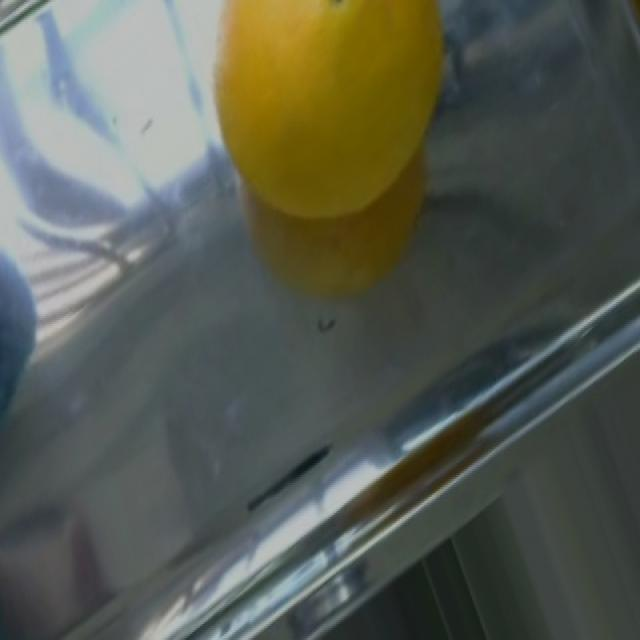Fruit: (193, 0, 473, 258)
